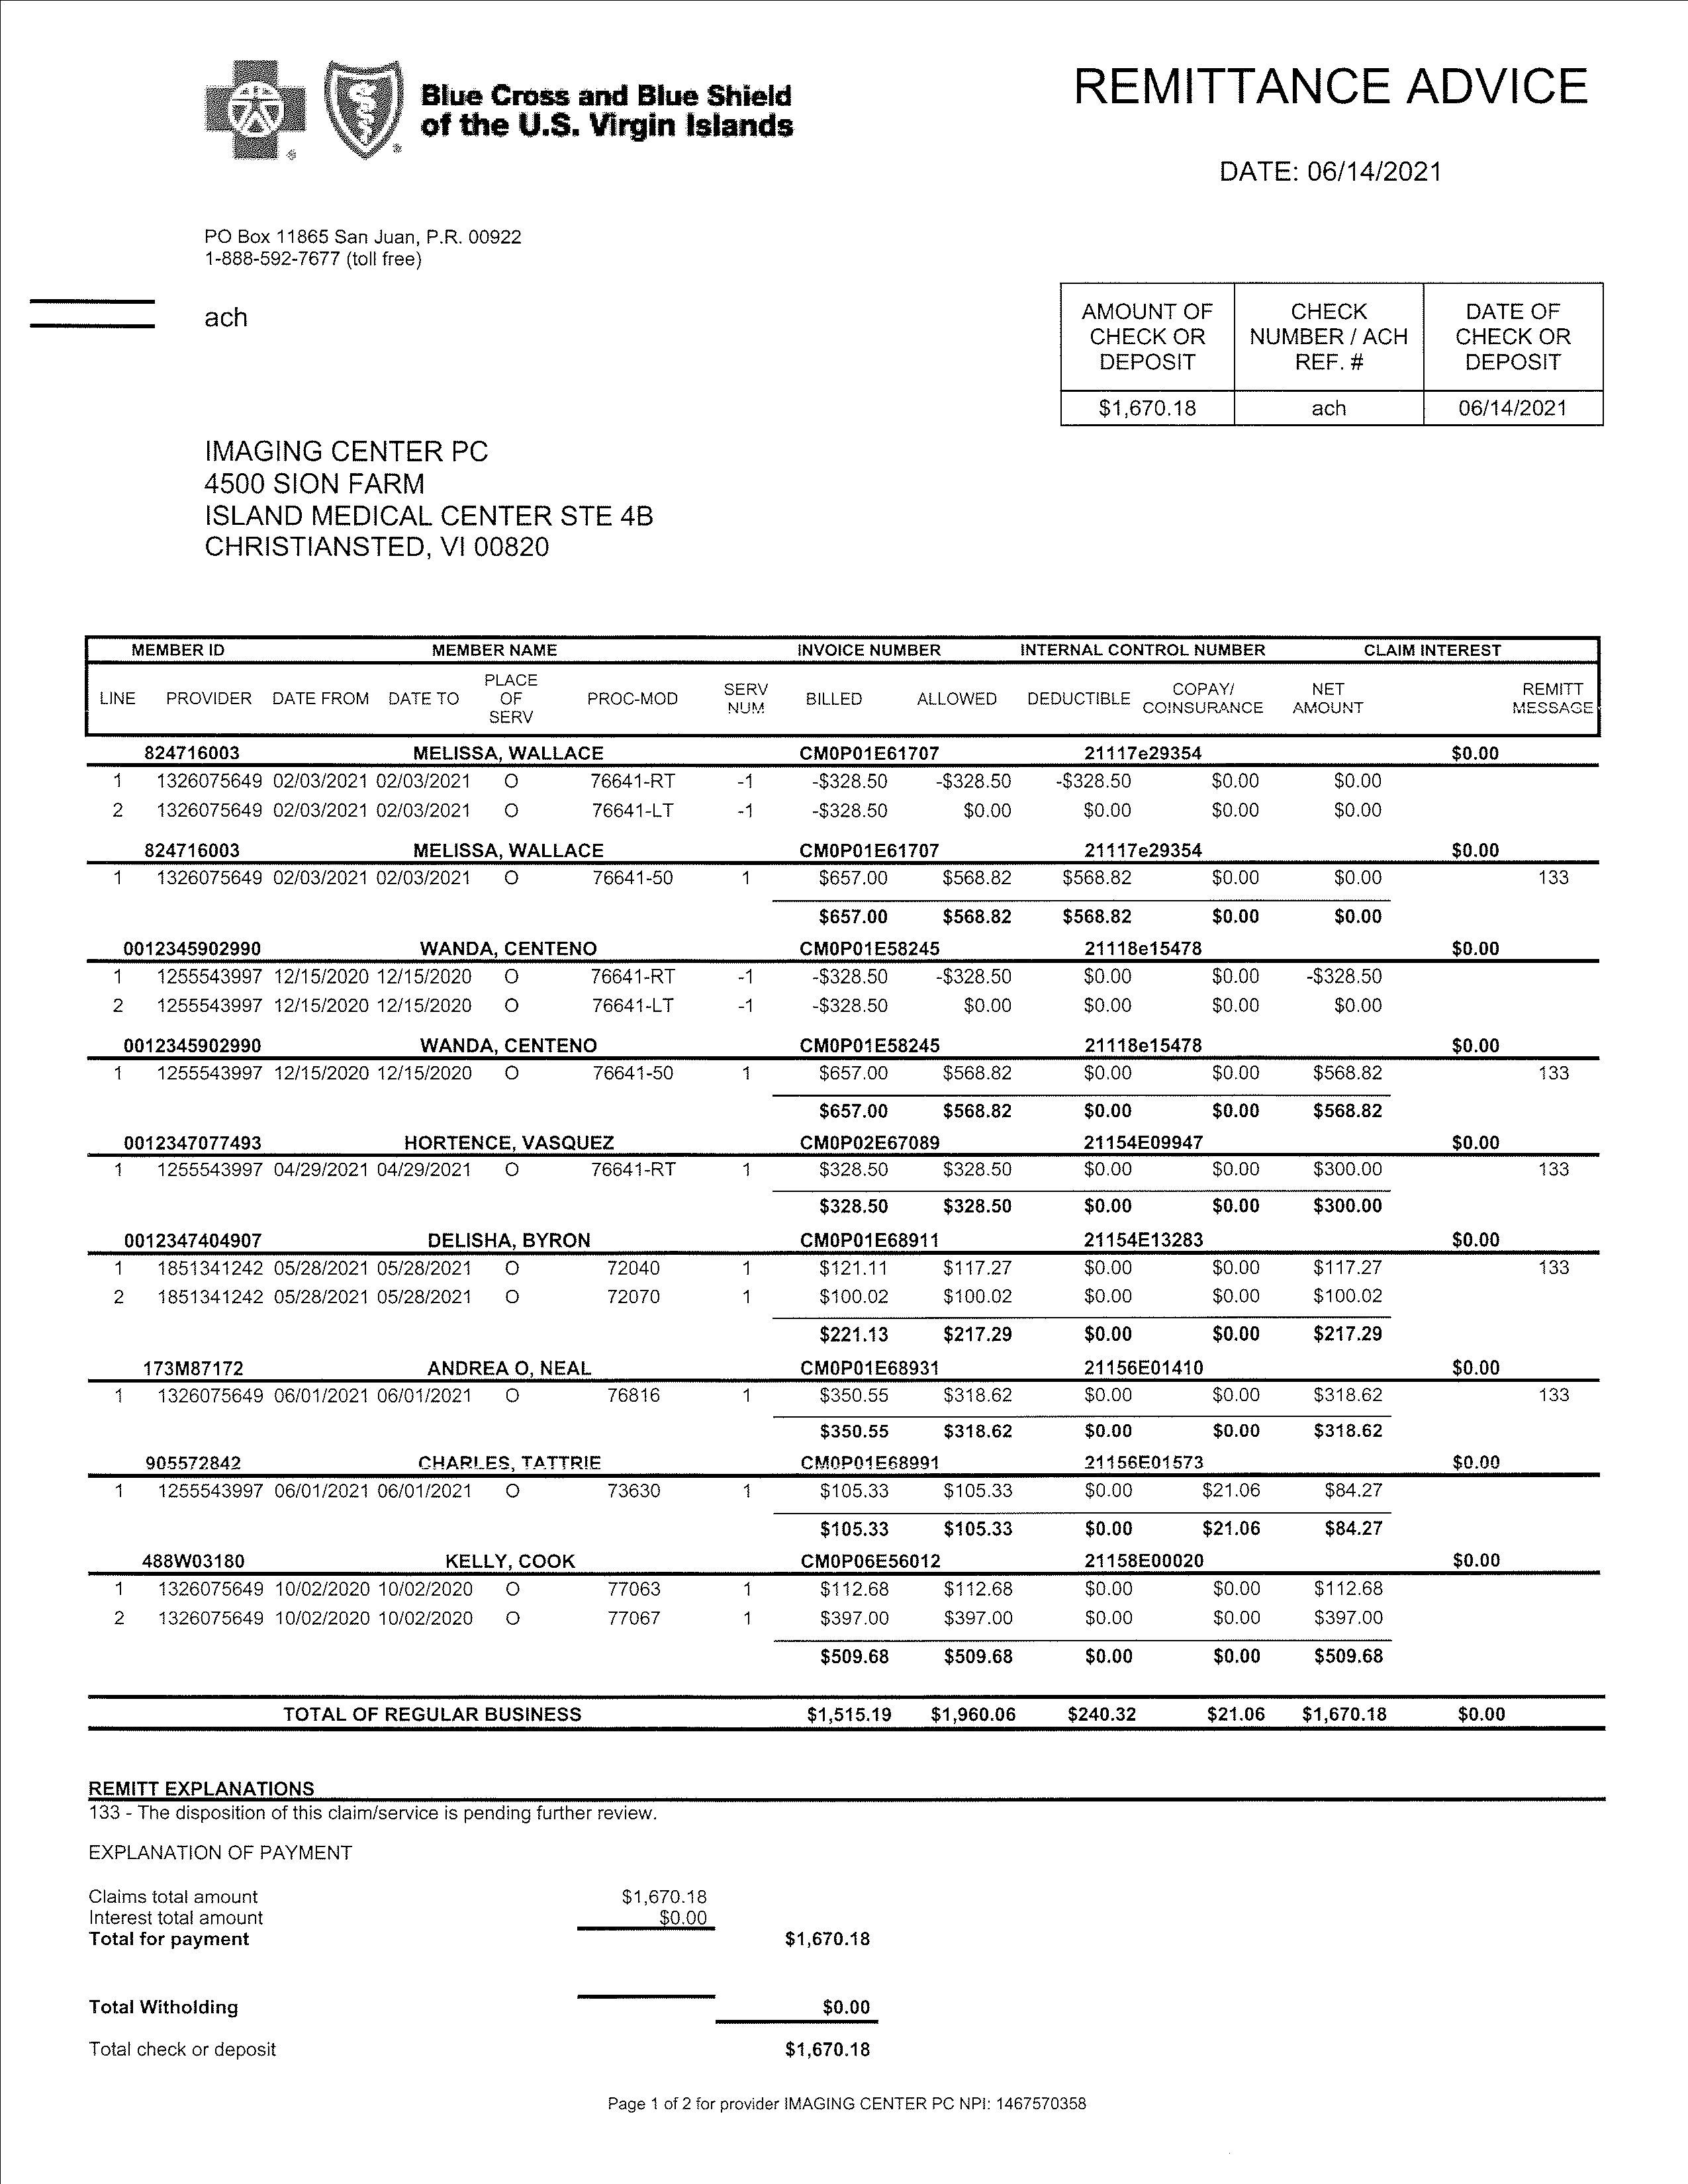data: (193, 424, 692, 573)
table: (78, 624, 1617, 1741), (1043, 264, 1617, 447)
